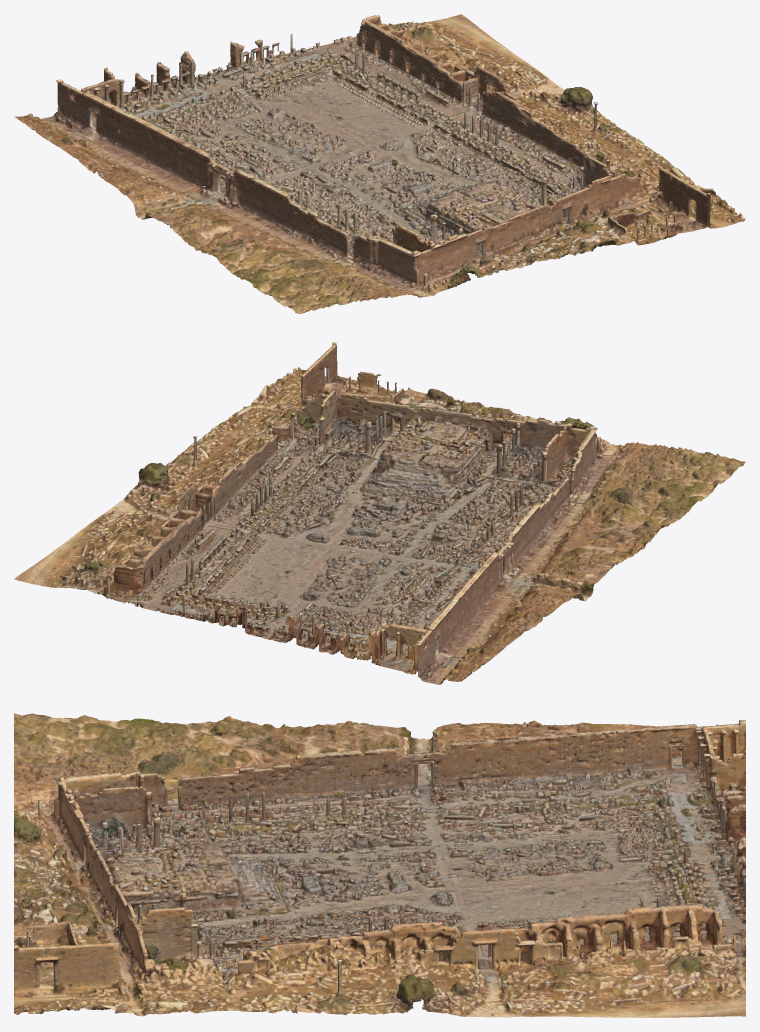
3 views of the same model, one above another, from view 1: azimuth 30°, elevation 25°; view 2: azimuth 150°, elevation 25°; view 3: azimuth 270°, elevation 25° (orthographic). The views are drawn at different scales.
Visible parts, largest first — view 1: LBY_002_M4_Forum; view 2: LBY_002_M4_Forum; view 3: LBY_002_M4_Forum.
Part boxes in pixels (box(x1,y1,x2,y2)): LBY_002_M4_Forum: box(14, 14, 745, 313); LBY_002_M4_Forum: box(14, 342, 745, 684); LBY_002_M4_Forum: box(14, 713, 745, 1017).
Size of the model in its own units: 131 by 12.24 by 144.
1 material, 1 textured.
